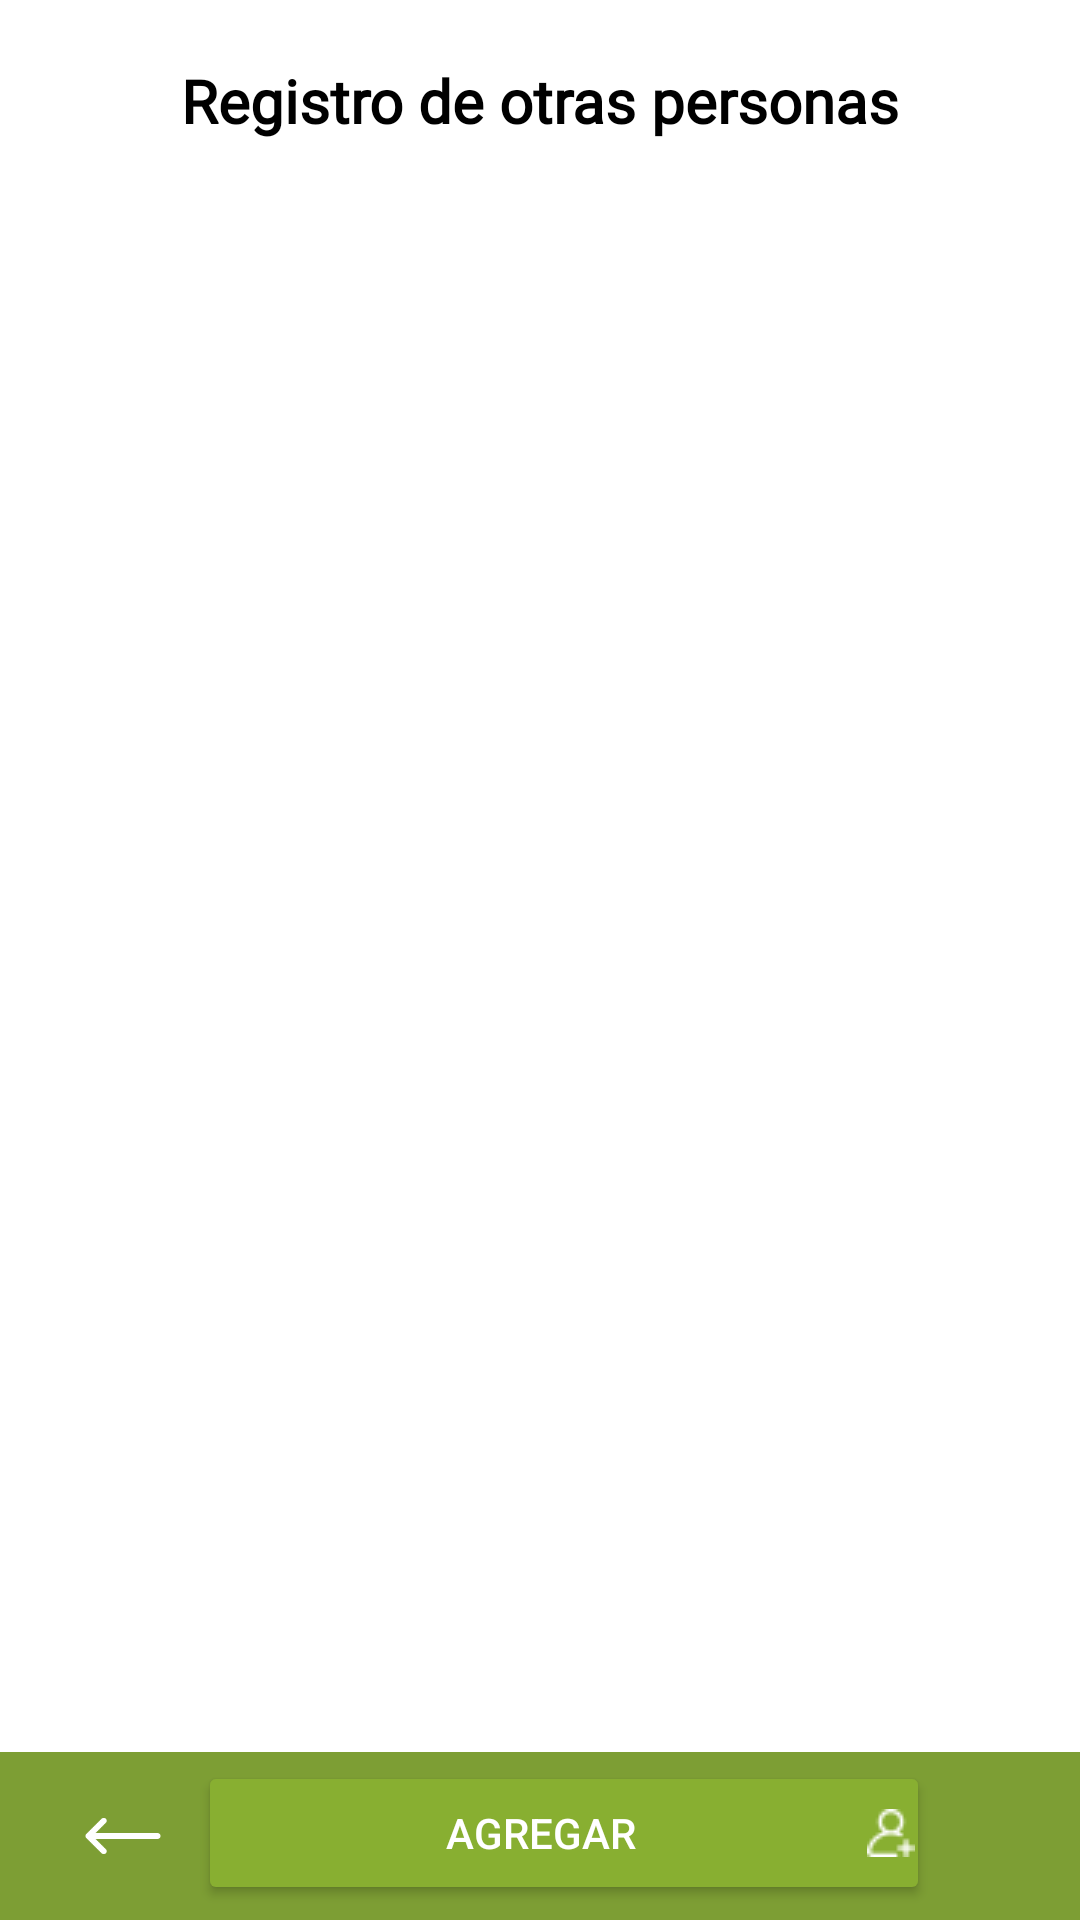

Locate icon controls on the screen. Image size 1080w x 1920h, boxes as region(x1, y1, x2, y2).
regresarflecha: region(85, 1818, 161, 1854)
